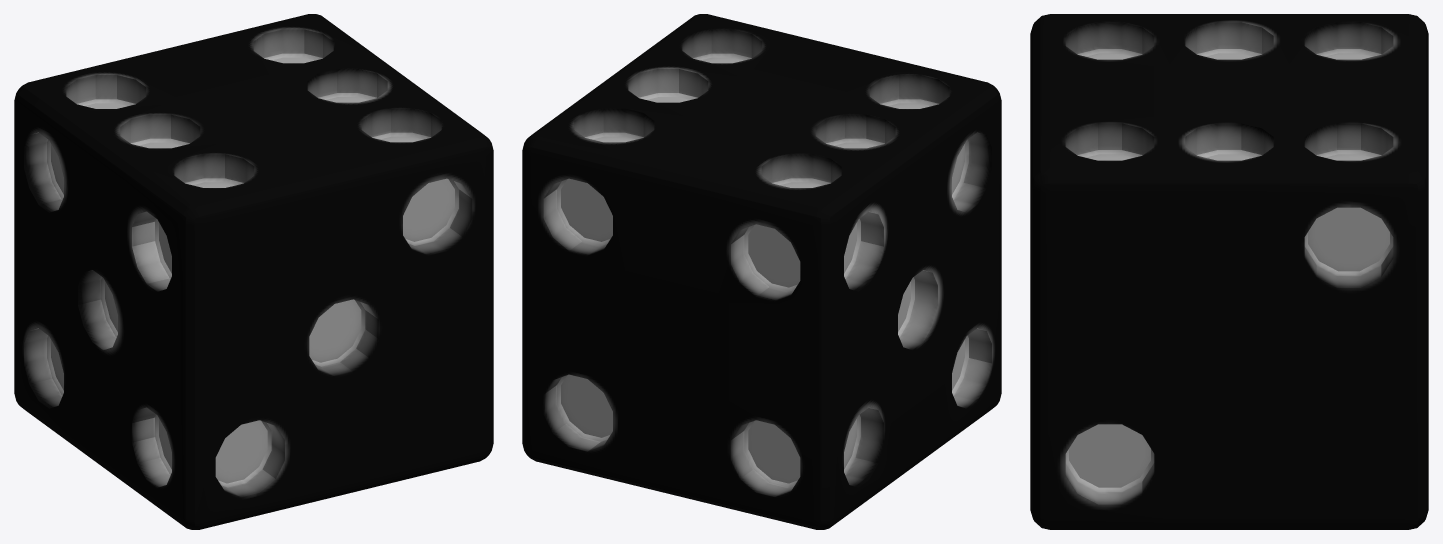
The model's file is さいころ(b_normal).fbx.
The picture shows the model from 3 angles, left to right: view 1: azimuth 30°, elevation 25°; view 2: azimuth 150°, elevation 25°; view 3: azimuth 270°, elevation 25°; orthographic projection. The views are drawn at different scales.
Parts seen in each view (by area): view 1: polySurface1; view 2: polySurface1; view 3: polySurface1.
Part boxes in pixels (x1,y1,x2,y2): polySurface1: (14,14,493,529); polySurface1: (522,14,1001,529); polySurface1: (1030,14,1428,529).
Size of the model in its own units: 1 by 1 by 1.
Materials: 1 (1 with a texture image).
